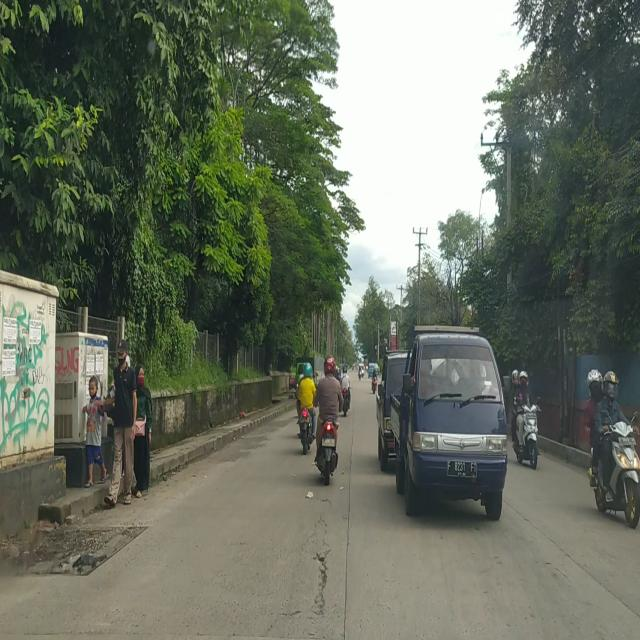Drain Hole: (272, 499, 330, 628)
